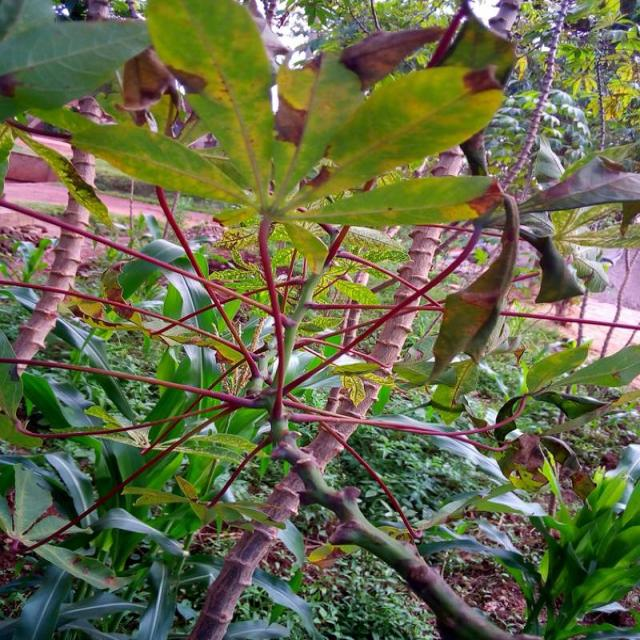cassava leaf: (2, 0, 638, 638), (275, 12, 517, 209), (146, 0, 276, 195)
